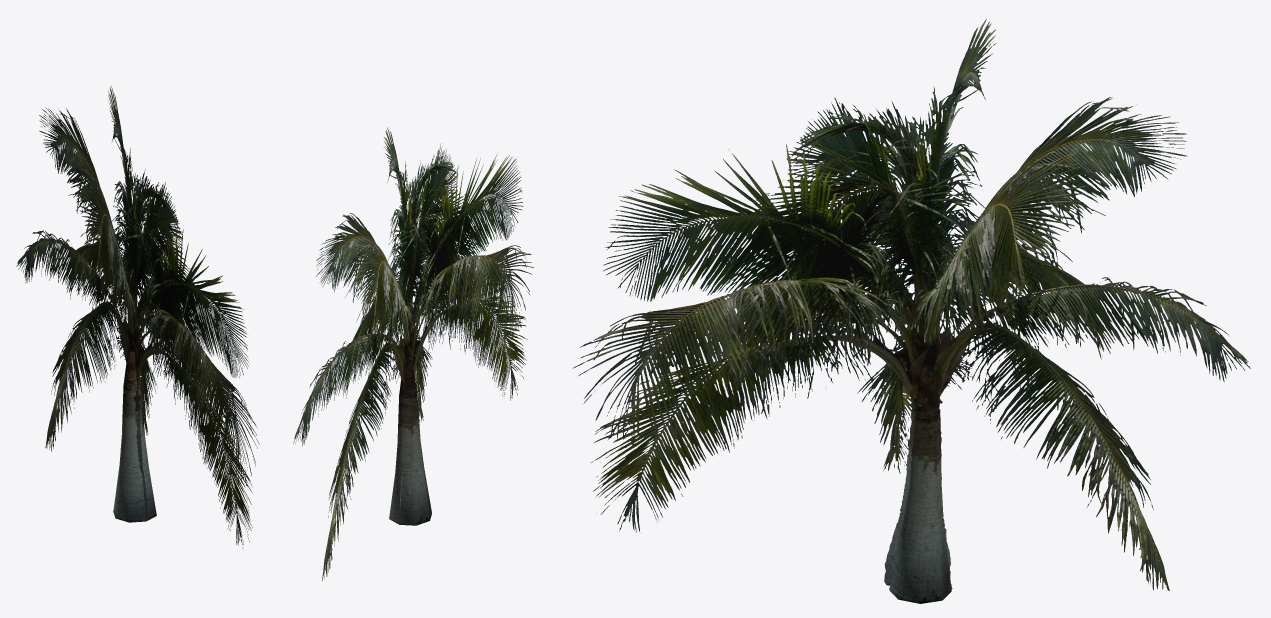
File: palm3.obj
3 renders of one model, left to right at view 1: azimuth 30°, elevation 25°; view 2: azimuth 150°, elevation 25°; view 3: azimuth 270°, elevation 25°, orthographic. The views are drawn at different scales.
Visible parts, largest first — view 1: ungrouped; view 2: ungrouped; view 3: ungrouped.
Part boxes in pixels (left/top/right/bottom): ungrouped: left=16, top=86, right=259, bottom=548; ungrouped: left=293, top=127, right=533, bottom=580; ungrouped: left=573, top=19, right=1250, bottom=603.
Bounding box in the file's own units: 5.51 × 55.88 × 60.64.
Materials: 1 (1 with a texture image).
